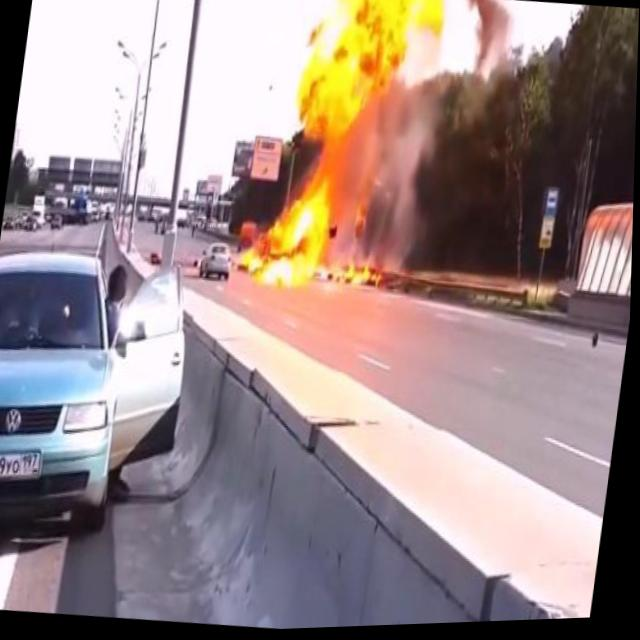fire: (233, 0, 455, 310)
